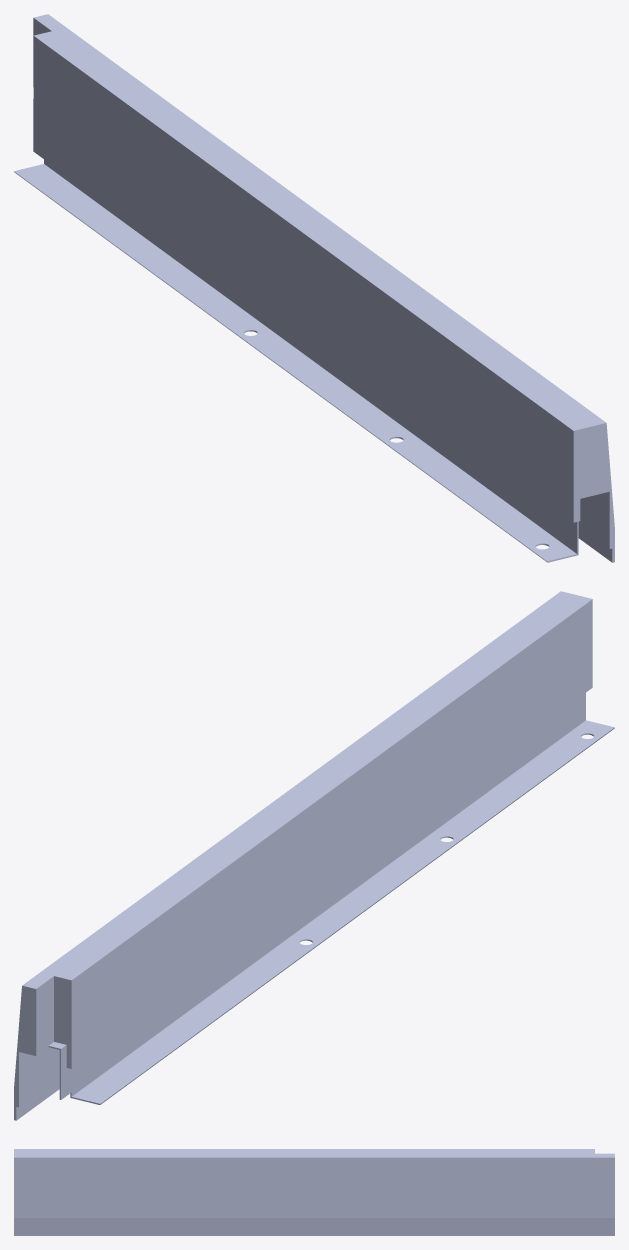
The model's file is mv-kava-N500-m.glb.
3 renders of one model, top to bottom at view 1: azimuth 30°, elevation 25°; view 2: azimuth 150°, elevation 25°; view 3: azimuth 270°, elevation 25°, orthographic. The views are drawn at different scales.
Visible parts, largest first — view 1: 45081547; view 2: 45081547; view 3: 45081547.
Boxes of the visible parts, x1,y1,x2,y2 form: 45081547: (14, 14, 614, 562); 45081547: (14, 591, 614, 1120); 45081547: (14, 1149, 614, 1235).
Bounding box in the file's own units: 0.0335 × 0.0685 × 0.4902.
